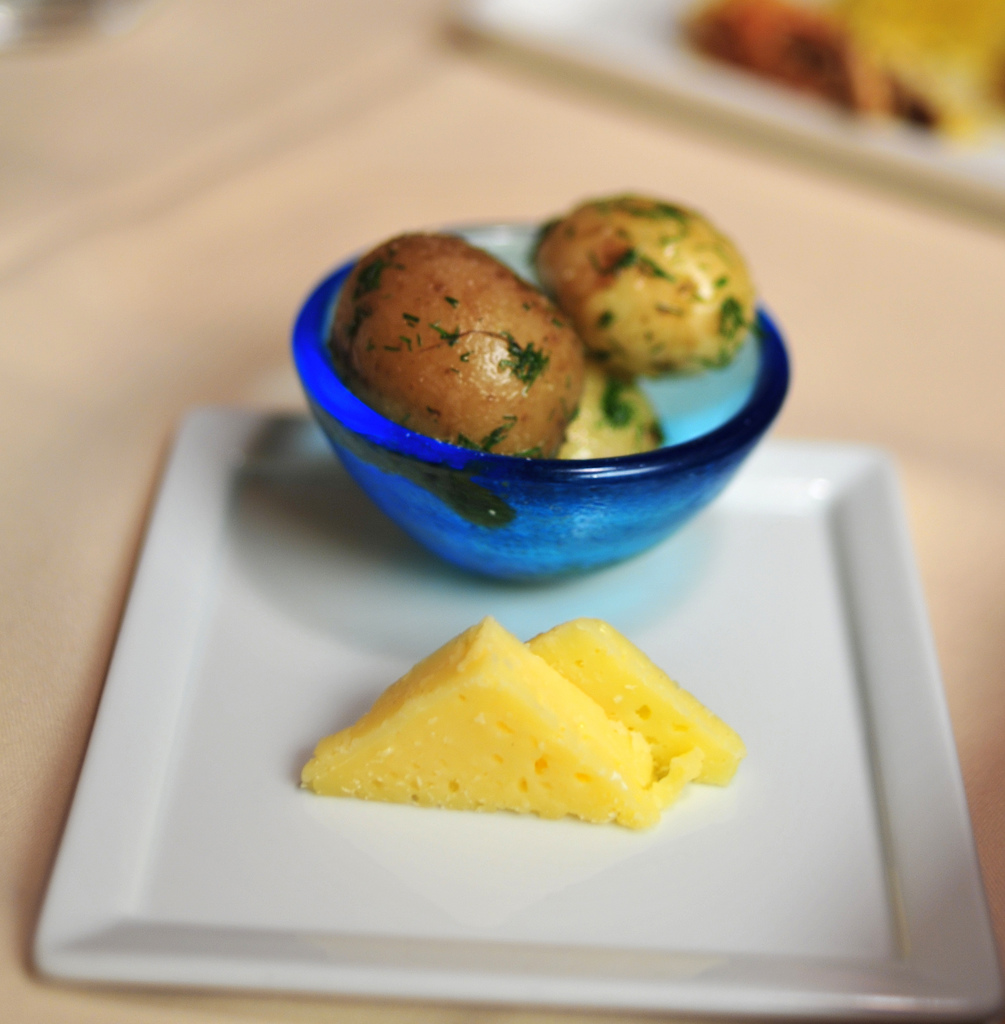boiled potatoes: (374, 225, 751, 437)
